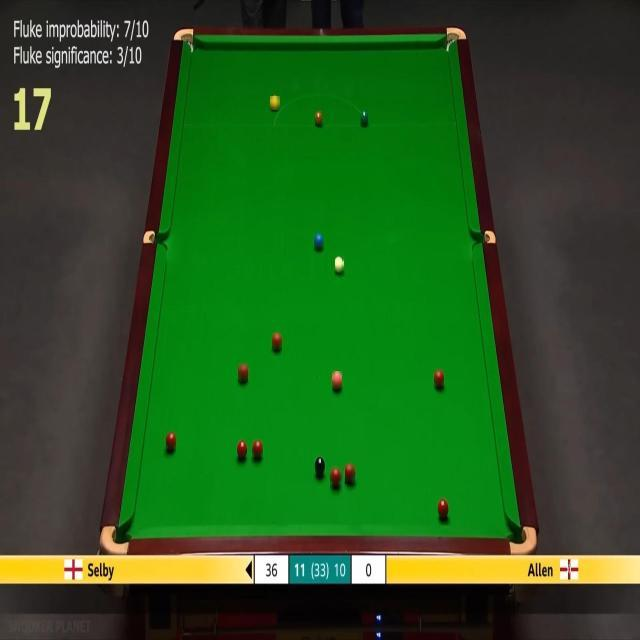Ball: (330, 468, 342, 487), (252, 440, 263, 460), (314, 456, 326, 474), (346, 464, 356, 484), (166, 432, 176, 451), (434, 370, 444, 388), (237, 441, 247, 459), (438, 500, 448, 518), (238, 364, 248, 382), (272, 333, 282, 350), (314, 233, 324, 250), (332, 372, 342, 389), (336, 256, 344, 274), (270, 96, 280, 110), (316, 112, 324, 126), (361, 112, 368, 125)
